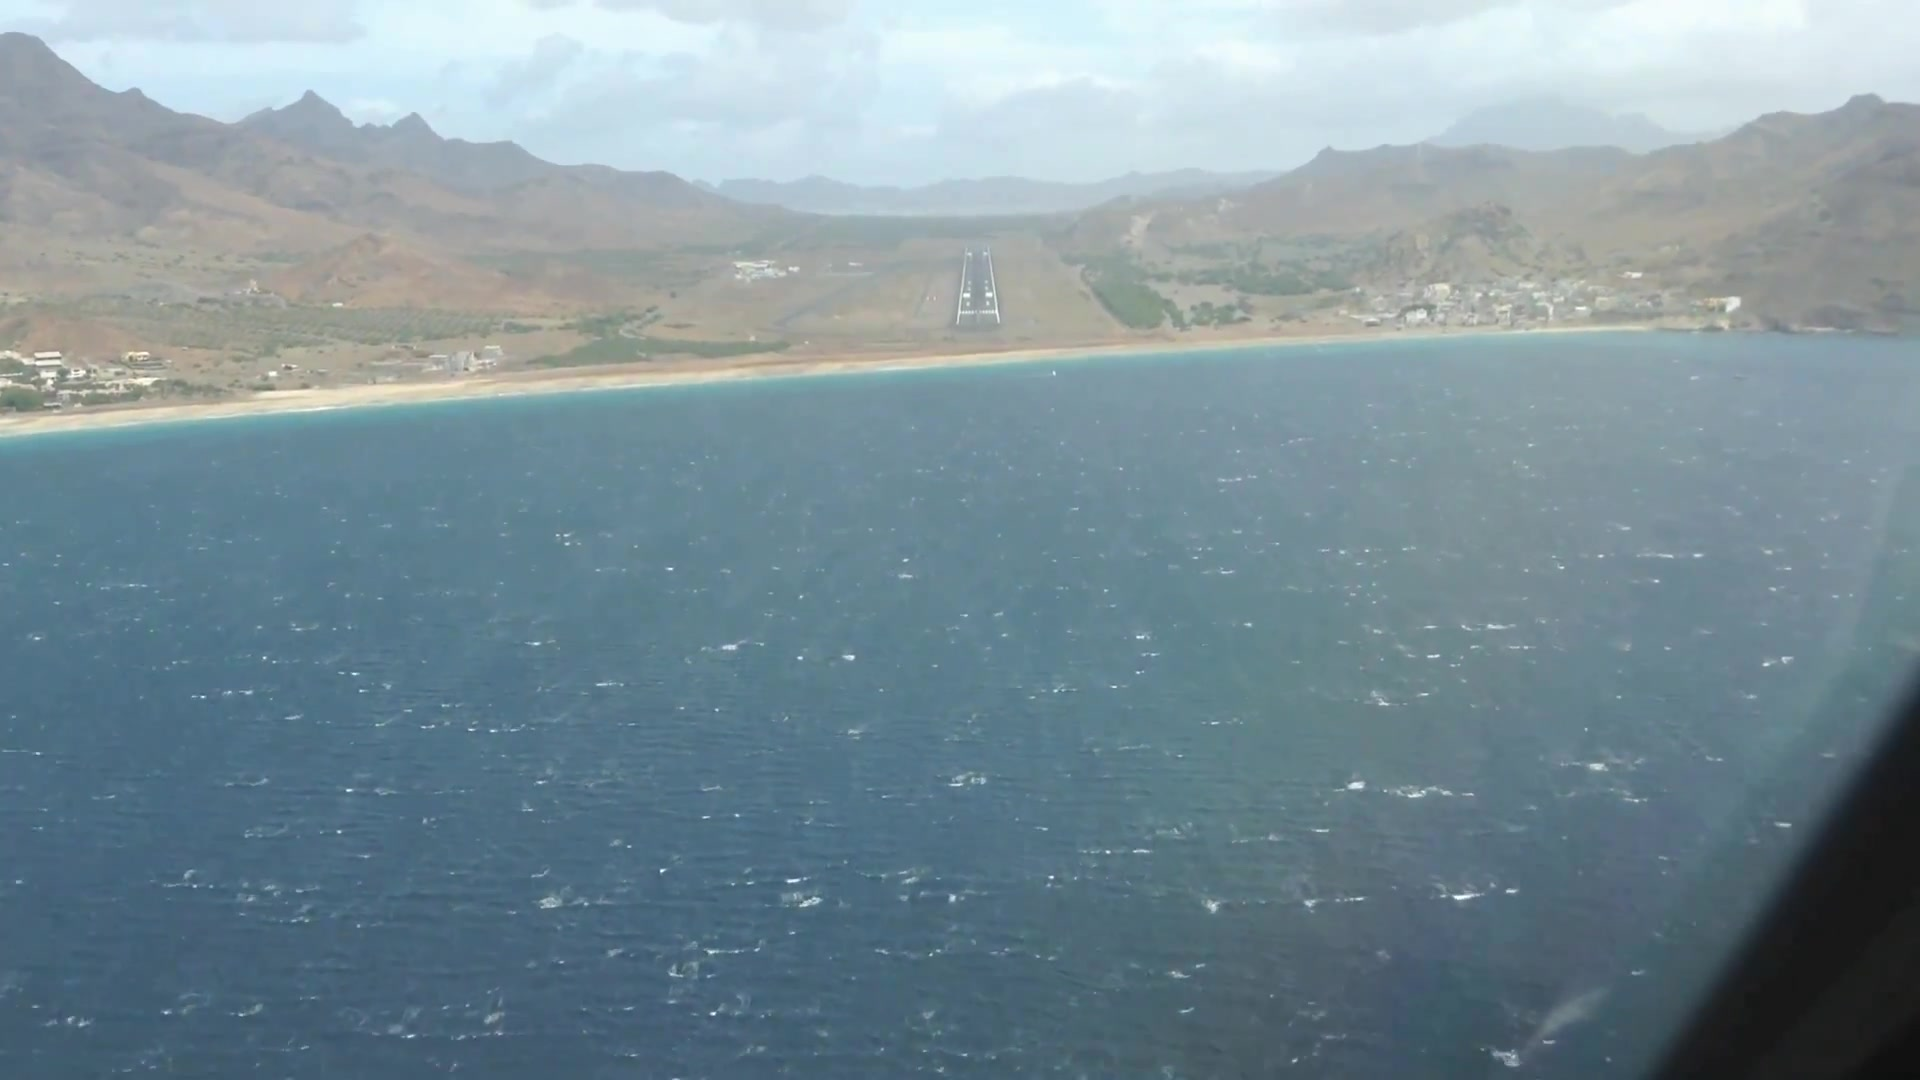entrance: (957, 306, 996, 316)
runway: (953, 244, 1000, 324)
